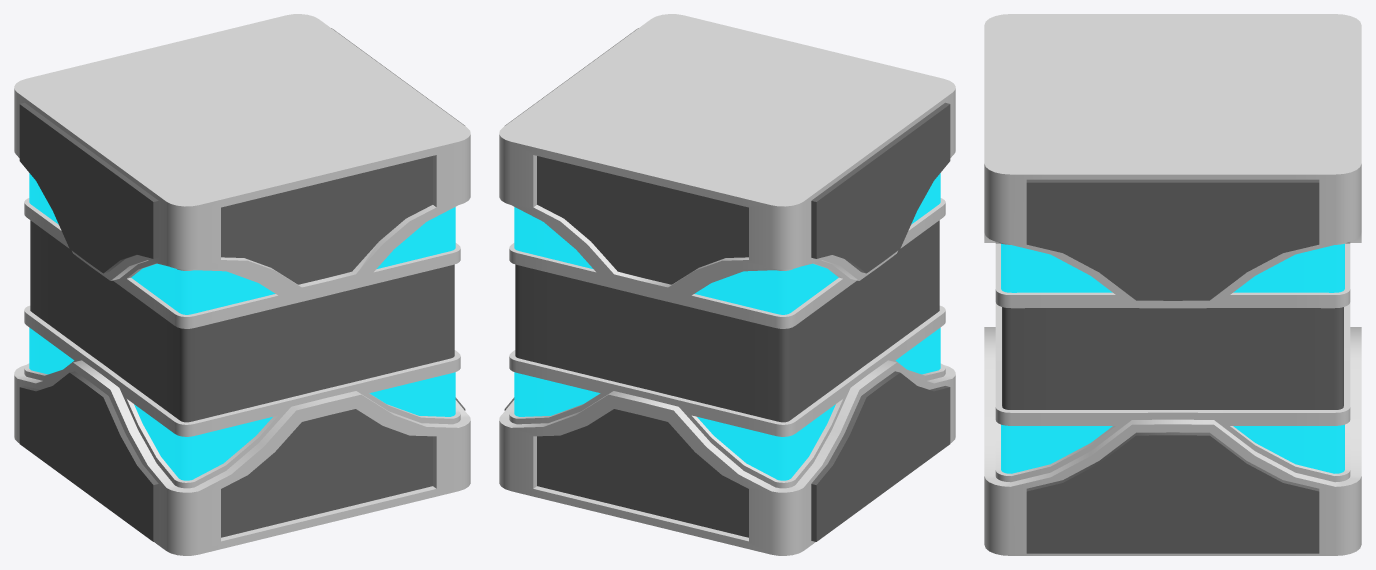
The model's file is center.glb.
3 views of the same model, side by side, from view 1: azimuth 30°, elevation 25°; view 2: azimuth 150°, elevation 25°; view 3: azimuth 270°, elevation 25° (orthographic). The views are drawn at different scales.
Parts seen in each view (by area): view 1: 立方体, 立方体.001; view 2: 立方体, 立方体.001; view 3: 立方体, 立方体.001.
Boxes of the visible parts, bbox=[...] form: 立方体: bbox=[14, 14, 470, 555]; 立方体.001: bbox=[19, 28, 465, 541]; 立方体: bbox=[499, 14, 955, 555]; 立方体.001: bbox=[504, 28, 950, 541]; 立方体: bbox=[984, 14, 1361, 555]; 立方体.001: bbox=[1026, 179, 1319, 553].
Bounding box in the file's own units: 34.2 × 36.6 × 32.79.
